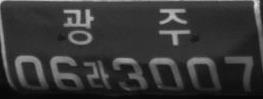0: (186, 55, 222, 92), (148, 56, 185, 91), (14, 54, 49, 90)
3: (113, 56, 148, 92)
6: (50, 54, 85, 91)
7: (223, 55, 255, 91)
광주_D: (62, 7, 191, 46)
라: (85, 59, 113, 90)
